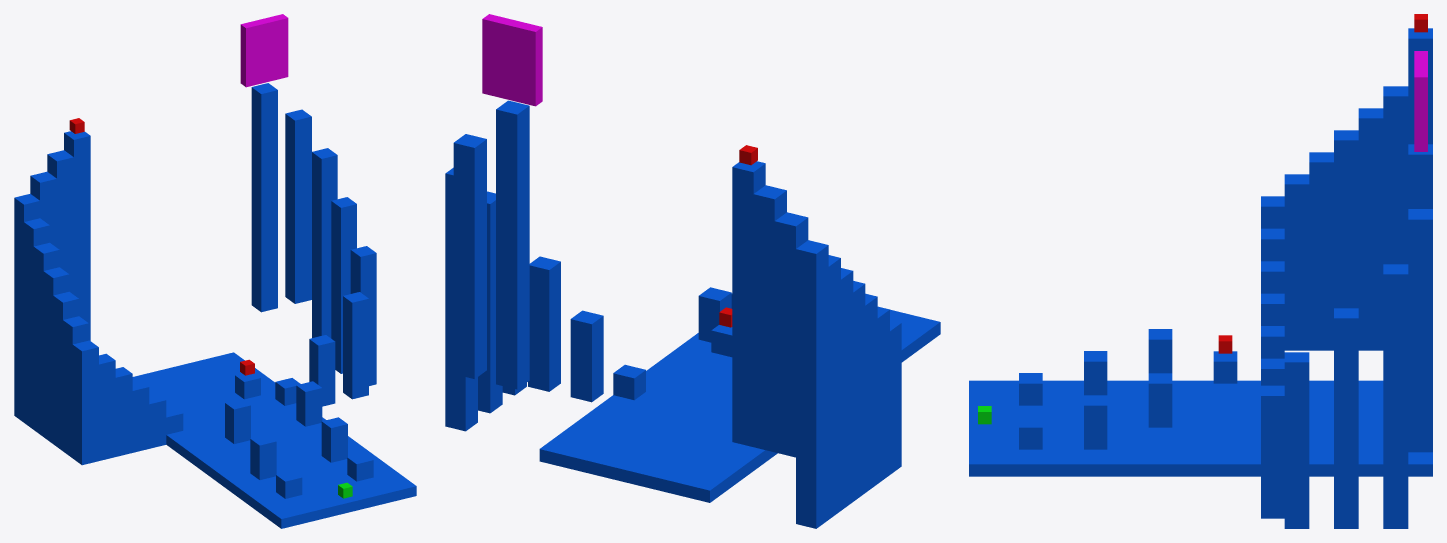
File: level_gebbos.fbx
3 views of the same model, side by side, from view 1: azimuth 30°, elevation 25°; view 2: azimuth 150°, elevation 25°; view 3: azimuth 270°, elevation 25° (orthographic). The views are drawn at different scales.
Parts seen in each view (by area): view 1: Cube.002, Cube.035, Cube.037, Cube.042, Cube.034, Cube.013, ExitDoor, Cube.041, Cube.045, Cube.022, Cube.029, Cube.027 (+22 smaller); view 2: Cube.002, Cube.035, Cube.022, Cube.037, Cube.034, Cube.033, Cube.032, ExitDoor, Cube.045, Cube.042, Cube.027, Cube.029 (+9 smaller); view 3: Cube.002, Cube.042, Cube.029, Cube.037, Cube.041, Cube.030, Cube.027, Cube.031, Cube.038, Cube.028, Cube.045, Cube.034 (+17 smaller).
Part boxes in pixels (box(x1,y1,x2,y2)): Cube.002: box(132, 352, 416, 528); Cube.035: box(251, 83, 277, 312); Cube.037: box(285, 109, 311, 303); Cube.042: box(312, 148, 337, 338); Cube.034: box(64, 131, 90, 340); Cube.013: box(72, 340, 98, 465); ExitDoor: box(240, 14, 288, 87); Cube.041: box(331, 197, 356, 373); Cube.045: box(343, 292, 368, 399); Cube.022: box(14, 193, 39, 422); Cube.029: box(33, 242, 59, 436); Cube.027: box(24, 218, 49, 429); Cube.002: box(539, 309, 940, 502); Cube.035: box(496, 100, 529, 389); Cube.022: box(796, 240, 828, 528); Cube.037: box(453, 134, 486, 379); Cube.034: box(732, 161, 765, 446); Cube.033: box(753, 185, 786, 452); Cube.032: box(774, 212, 808, 457); ExitDoor: box(482, 14, 542, 106); Cube.045: box(528, 256, 560, 391); Cube.042: box(445, 167, 477, 431); Cube.027: box(828, 255, 840, 519); Cube.029: box(841, 268, 853, 510); Cube.002: box(969, 380, 1432, 476); Cube.042: box(1383, 264, 1408, 528); Cube.029: box(1358, 108, 1383, 350); Cube.037: box(1408, 209, 1432, 452); Cube.041: box(1334, 308, 1358, 528); Cube.030: box(1309, 152, 1333, 350); Cube.027: box(1383, 86, 1408, 264); Cube.031: box(1284, 174, 1309, 350); Cube.038: box(1284, 352, 1309, 528); Cube.028: box(1334, 130, 1358, 308); Cube.045: box(1261, 385, 1284, 518); Cube.034: box(1408, 28, 1432, 144).
Size of the model in its own units: 1616 by 1717 by 1683.
